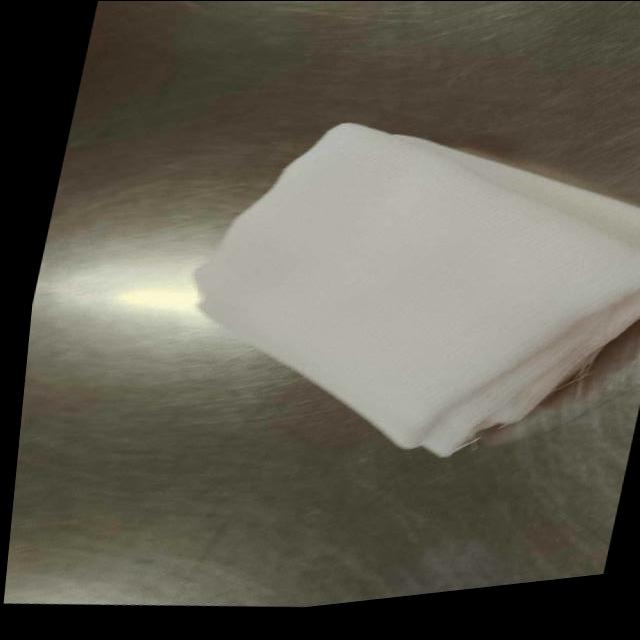General: (3, 3, 638, 610)
Infectious: (191, 121, 638, 458)
